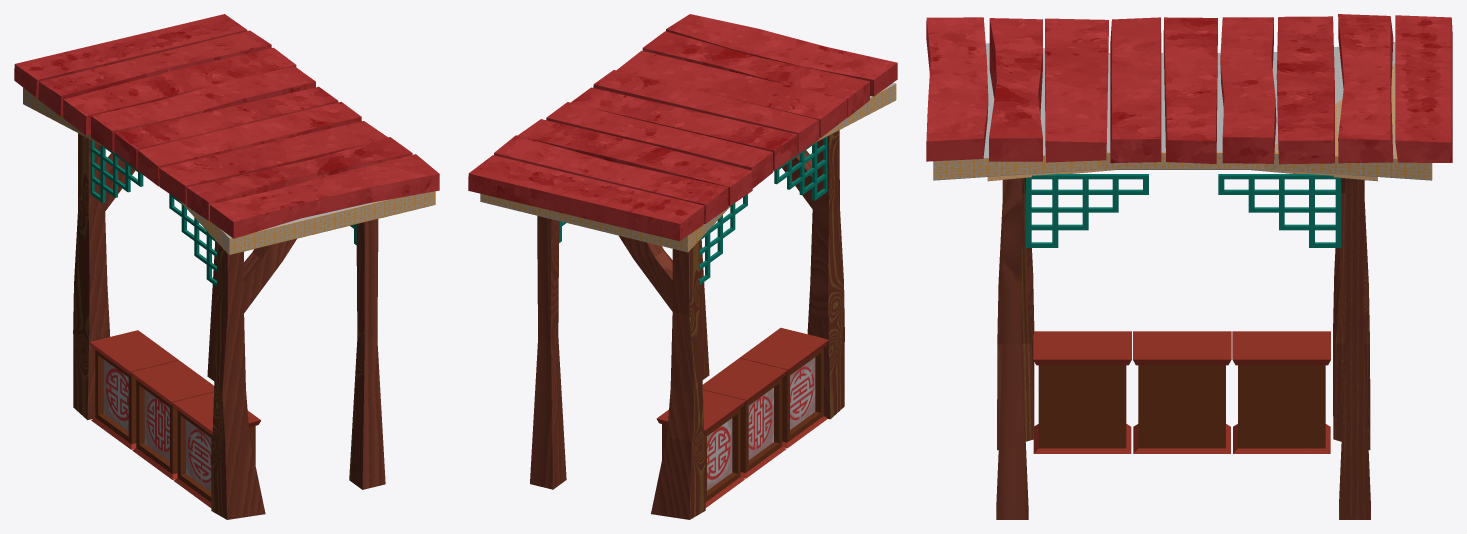
Rendered from booth 2-1.fbx.
3 views of the same model, side by side, from view 1: azimuth 30°, elevation 25°; view 2: azimuth 150°, elevation 25°; view 3: azimuth 270°, elevation 25° (orthographic). The views are drawn at different scales.
Parts seen in each view (by area): view 1: Cube.001, Cube.002, Cube.004, Cube.011, Cube, Plane; view 2: Cube.001, Cube.002, Cube.004, Cube.011, Cube, Plane; view 3: Cube.001, Cube.004, Cube.011, Cube, Cube.002, Plane.
Part boxes in pixels (box(x1,y1,x2,y2)): Cube.001: box(14, 14, 439, 238); Cube.002: box(73, 133, 296, 519); Cube.004: box(90, 330, 260, 507); Cube.011: box(207, 219, 385, 489); Cube: box(23, 87, 435, 254); Plane: box(90, 140, 356, 286); Cube.001: box(468, 14, 897, 241); Cube.002: box(619, 130, 844, 519); Cube.004: box(656, 327, 828, 507); Cube.011: box(530, 216, 709, 489); Cube: box(480, 82, 896, 252); Plane: box(559, 137, 827, 284); Cube.001: box(926, 14, 1452, 164); Cube.004: box(1033, 331, 1330, 453); Cube.011: box(996, 178, 1370, 519); Cube: box(933, 42, 1432, 181); Cube.002: box(997, 178, 1370, 450); Plane: box(1026, 174, 1341, 247).
Bounding box in the file's own units: 1002 × 1497 × 1791.
Materials: 1 (1 with a texture image).
